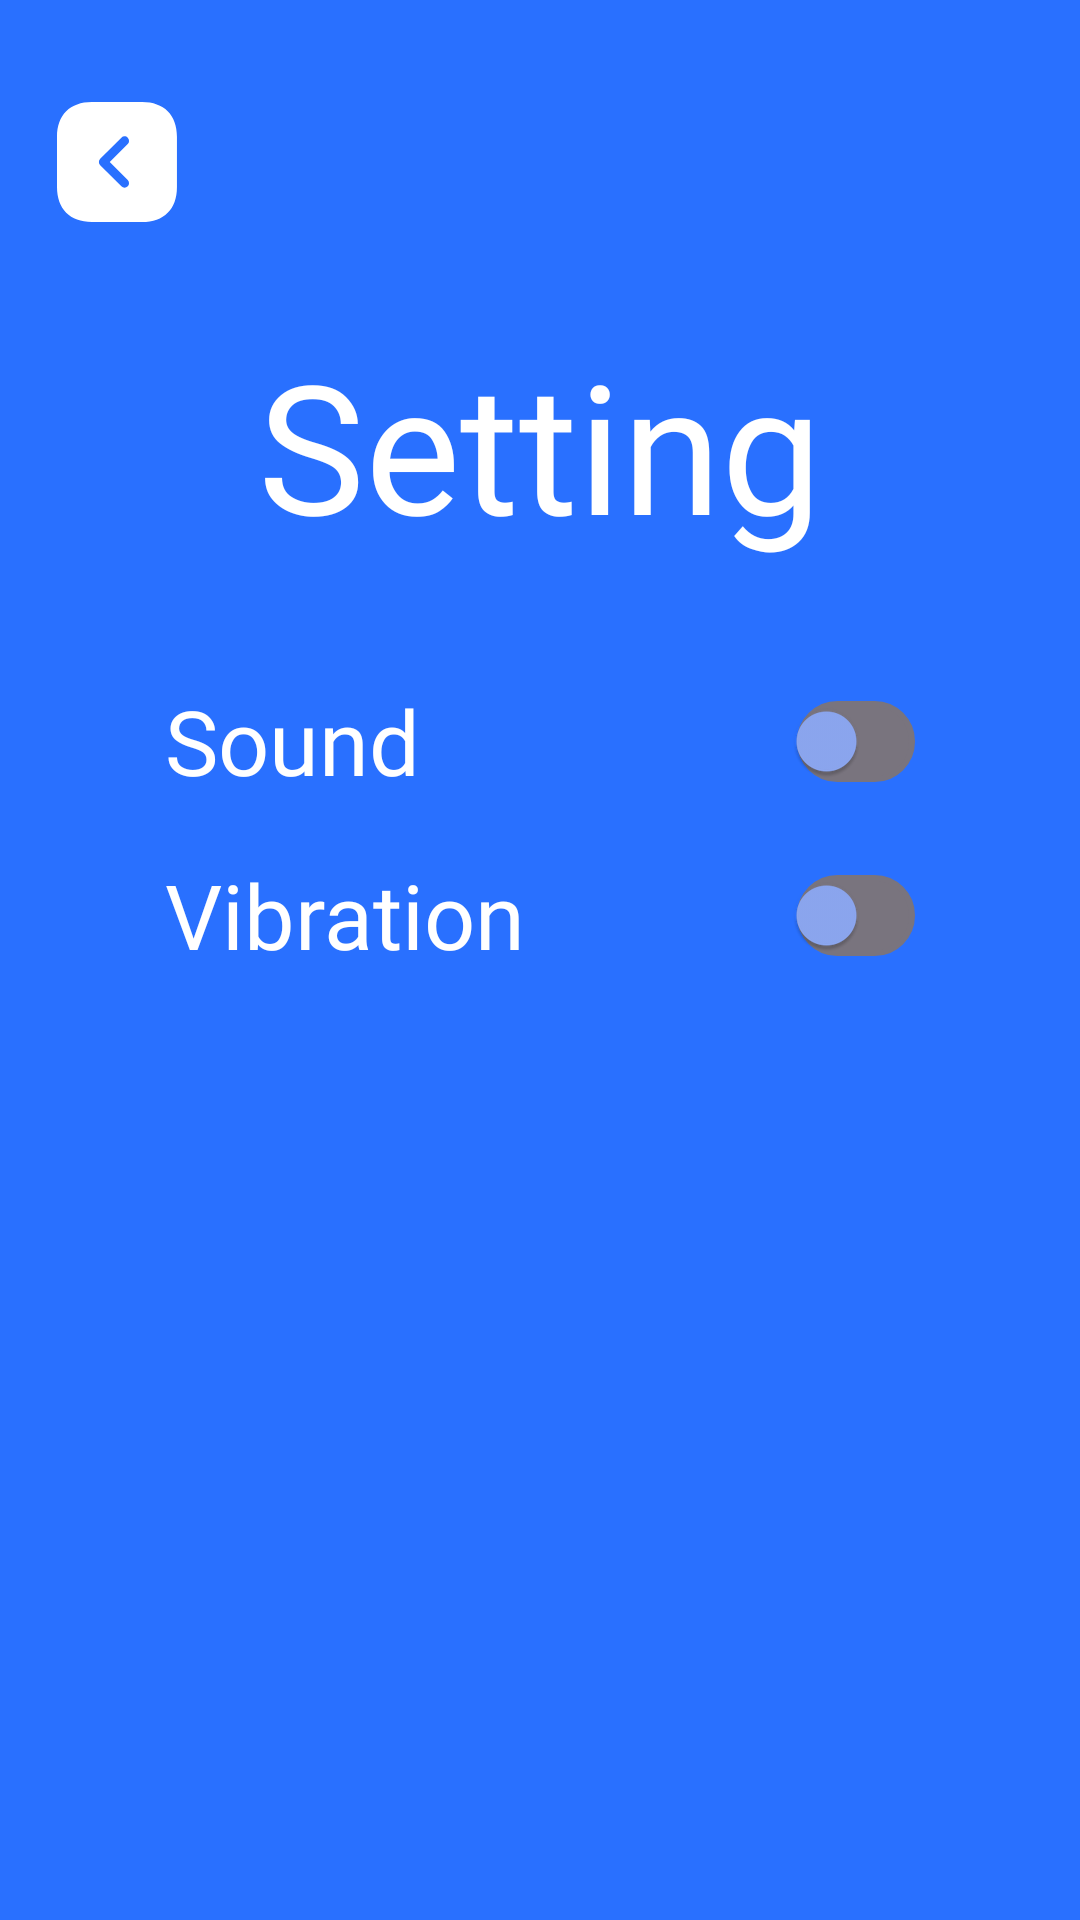

Icons on this 1080x1920 Android screen, each with the point to tap as (x,y):
back: (117,162)
